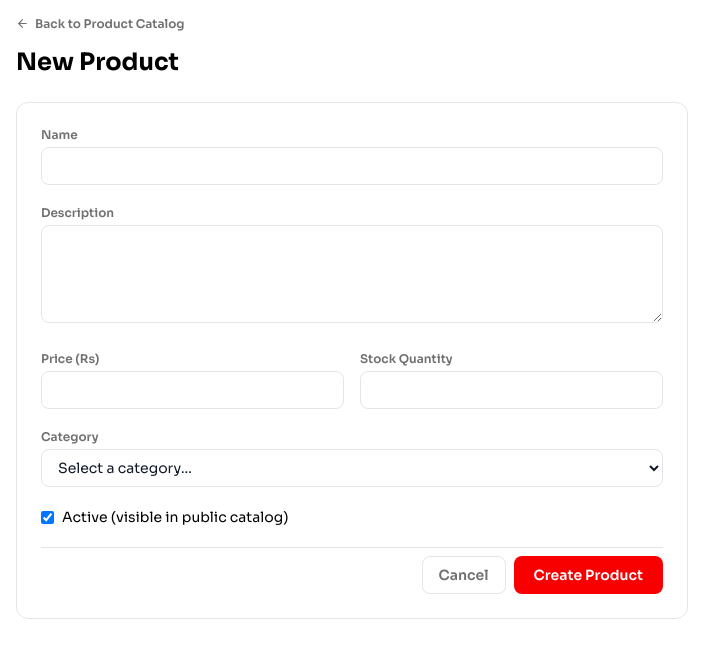
Test case: Admin ProductForm › shows field validation errors on a 422 create response
Expected: the heading "New Product" is shown, [16,47,179,77]
In the field labelled "Name": (352,166) [41,147,663,185], type "Duplicate Product"
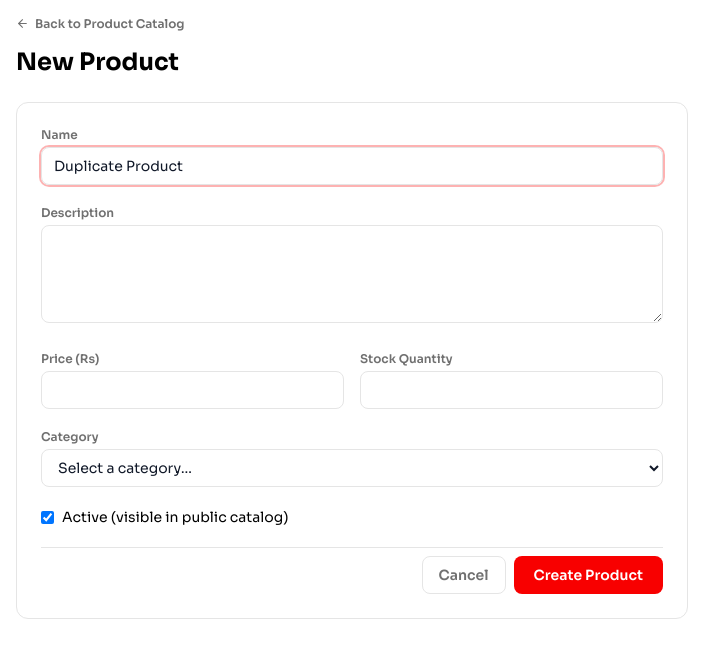
In the number field labelled "Price (Rs)": (192,390) [41,371,344,409], type "100"
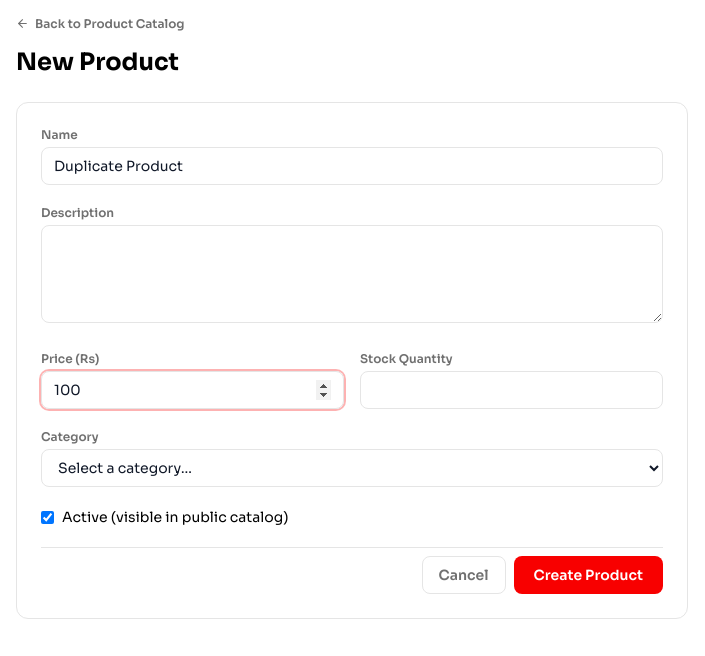
In the number field labelled "Stock Quantity": (512,390) [360,371,663,409], type "5"
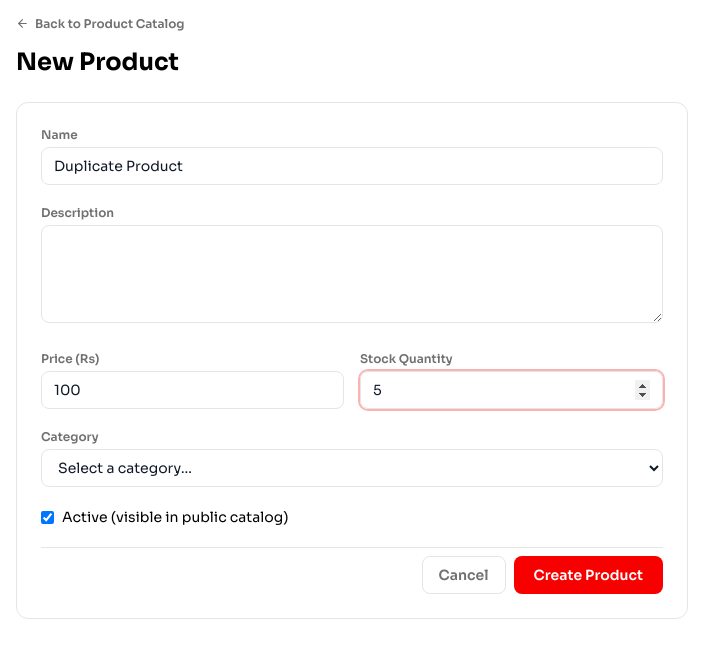
Select "Interactive Displays" in the dropdown labelled "Category": (352,468) [41,449,663,487]
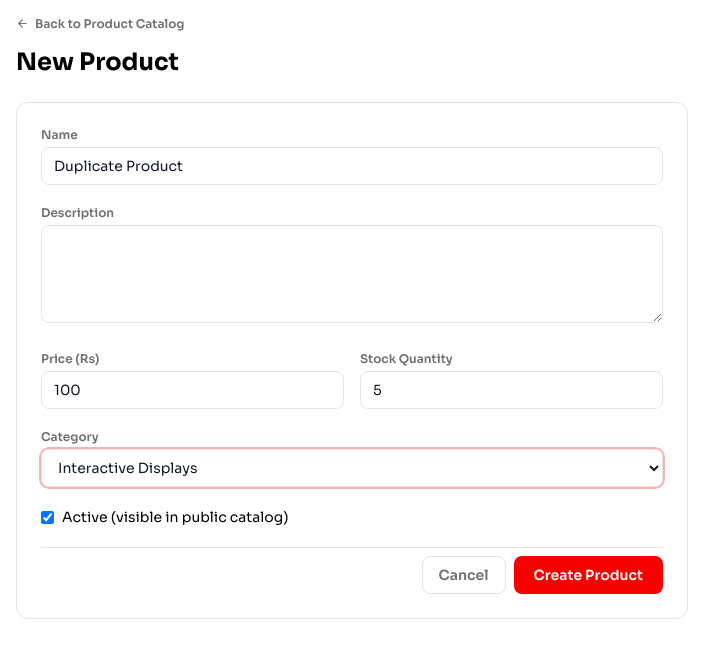
Click the button "Create Product": (588,575) [514,556,663,594]
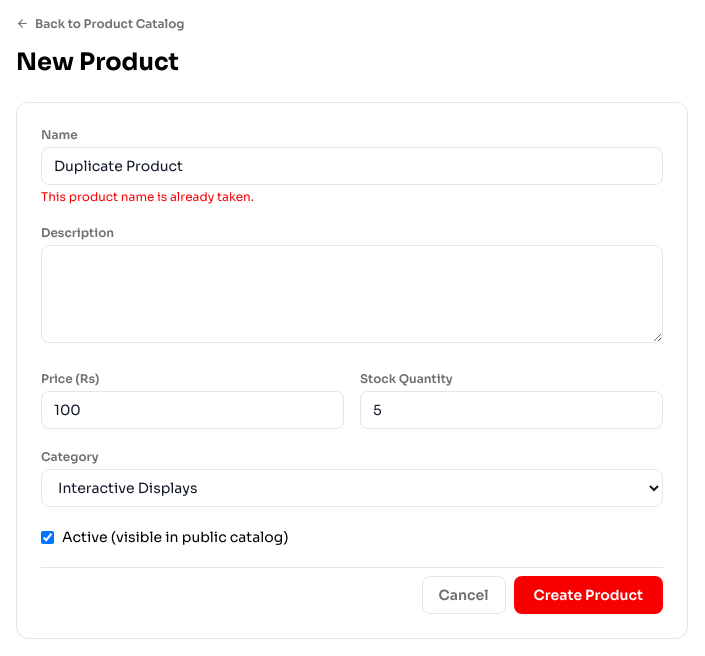
Expected: the text "This product name is already taken." is shown, [41,189,254,204]
